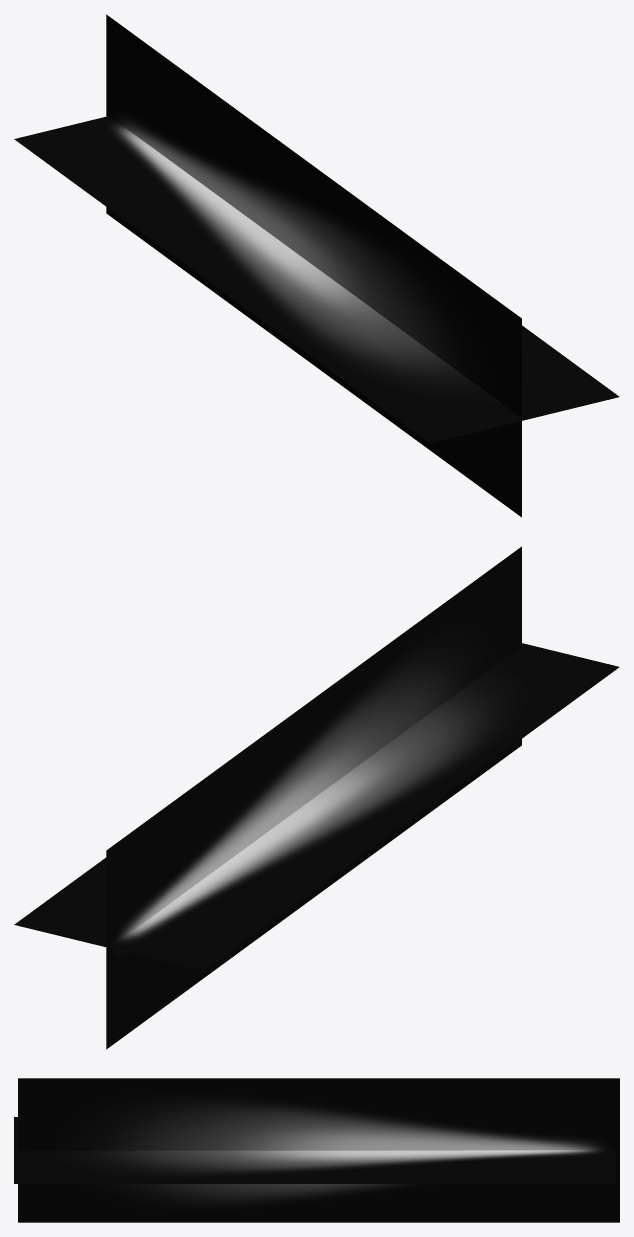
The model's file is LightCone.FBX.
3 renders of one model, top to bottom at view 1: azimuth 30°, elevation 25°; view 2: azimuth 150°, elevation 25°; view 3: azimuth 270°, elevation 25°, orthographic. The views are drawn at different scales.
Visible parts, largest first — view 1: LightCone; view 2: LightCone; view 3: LightCone.
Part boxes in pixels (left/top/right/bottom): LightCone: left=14, top=14, right=619, bottom=517; LightCone: left=14, top=546, right=619, bottom=1049; LightCone: left=14, top=1078, right=619, bottom=1222.
Size of the model in its own units: 526 by 526 by 2003.
